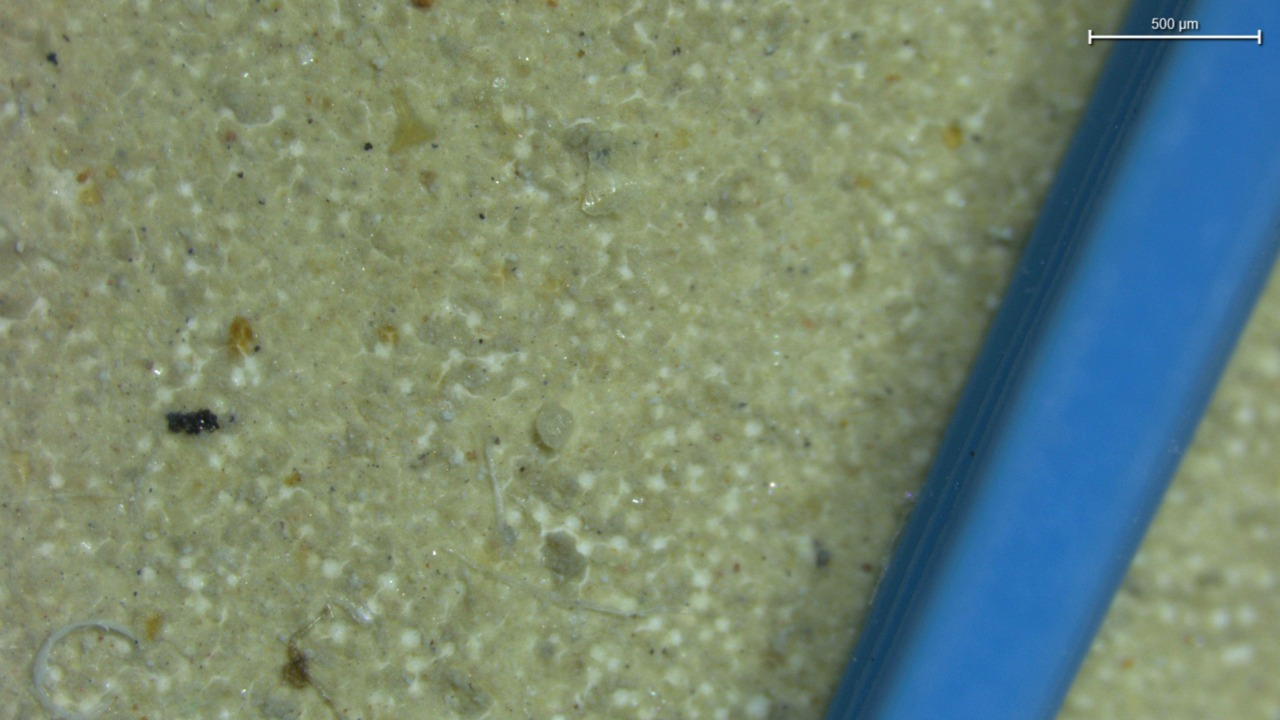microplastic_fragment: (534, 403, 573, 450)
